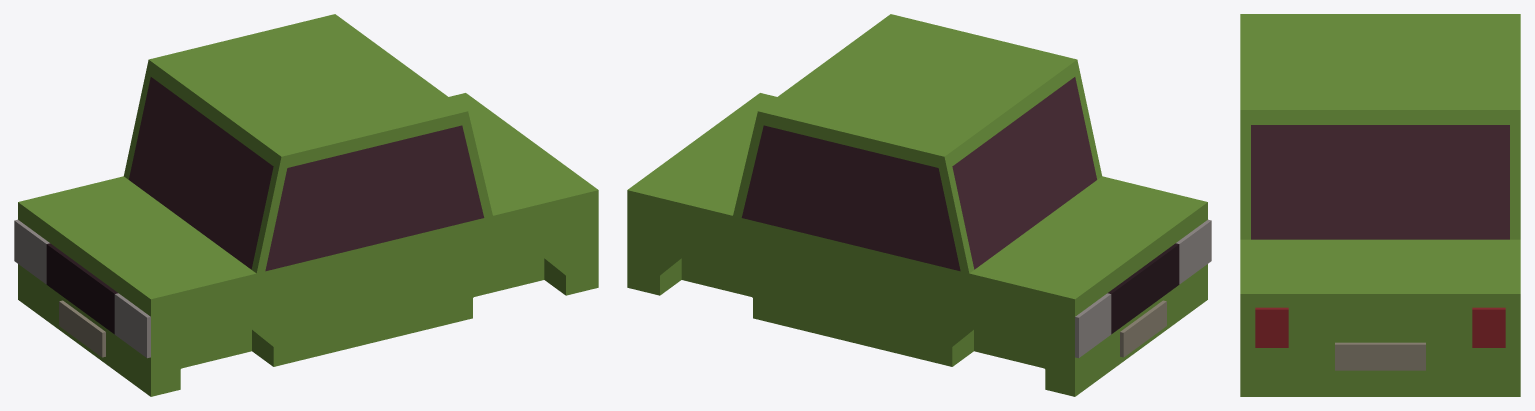
Rendered from Sedan_Green.fbx.
The picture shows the model from 3 angles, left to right: view 1: azimuth 30°, elevation 25°; view 2: azimuth 150°, elevation 25°; view 3: azimuth 270°, elevation 25°; orthographic projection. The views are drawn at different scales.
Parts seen in each view (by area): view 1: Sedan_Green, Sedan_Lights; view 2: Sedan_Green, Sedan_Lights; view 3: Sedan_Green, Sedan_Lights.
Boxes of the visible parts, box(x1,y1,x2,y2) form: Sedan_Green: box(18, 14, 598, 396); Sedan_Lights: box(14, 219, 150, 358); Sedan_Green: box(627, 14, 1207, 396); Sedan_Lights: box(1075, 219, 1211, 358); Sedan_Green: box(1240, 14, 1520, 396); Sedan_Lights: box(1255, 307, 1505, 347).
Bounding box in the file's own units: 3.66 × 1.6 × 1.85.
